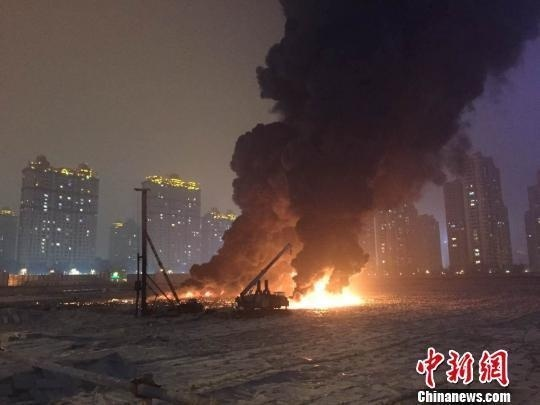fire: (285, 267, 365, 312)
